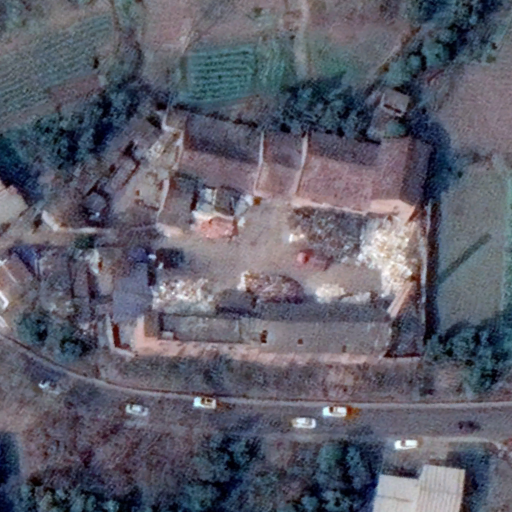msw: (295, 209, 412, 291), (245, 271, 375, 306), (145, 276, 218, 319)
